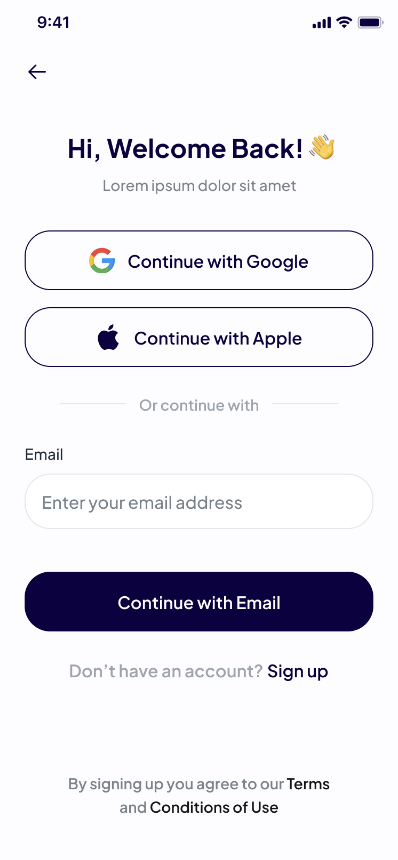Button: (24, 305, 375, 369), (23, 570, 375, 633), (23, 228, 374, 291)
